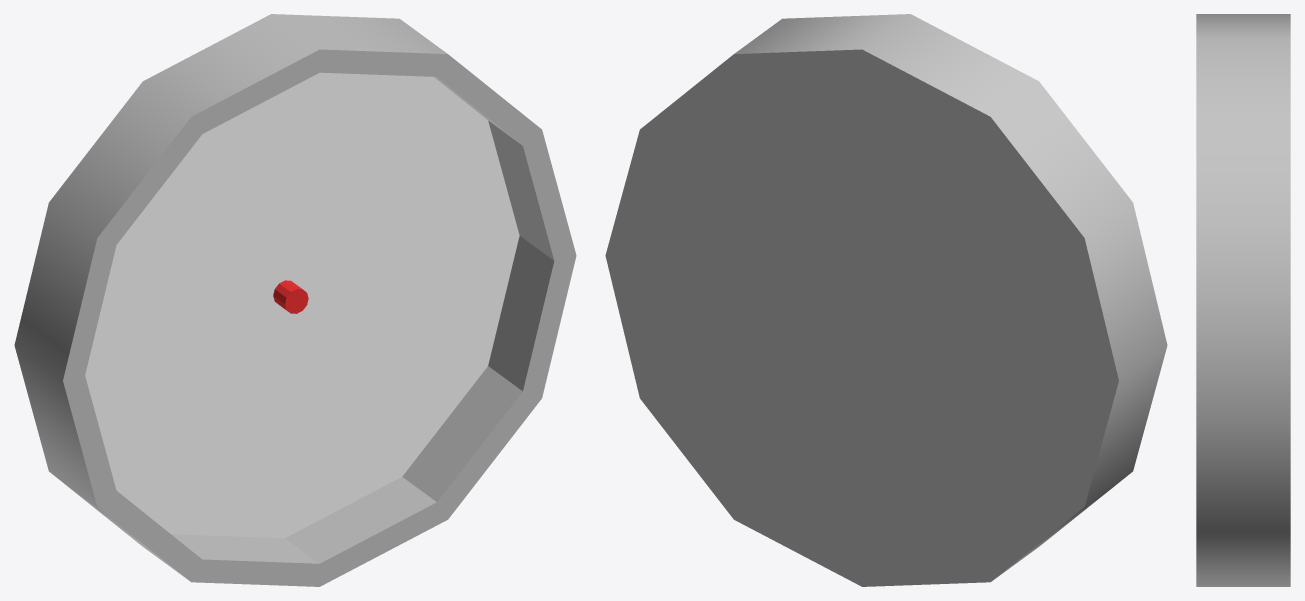
File: Itr_Obj_clock1_01.FBX
3 renders of one model, left to right at view 1: azimuth 30°, elevation 25°; view 2: azimuth 150°, elevation 25°; view 3: azimuth 270°, elevation 25°, orthographic. The views are drawn at different scales.
Visible parts, largest first — view 1: Itr_Obj_clock1_01; view 2: Itr_Obj_clock1_01; view 3: Itr_Obj_clock1_01.
Boxes of the visible parts, box(x1,y1,x2,y2) form: Itr_Obj_clock1_01: box(14, 14, 576, 586); Itr_Obj_clock1_01: box(605, 14, 1167, 586); Itr_Obj_clock1_01: box(1196, 14, 1290, 586).
Bounding box in the file's own units: 12.23 × 12.23 × 2.
